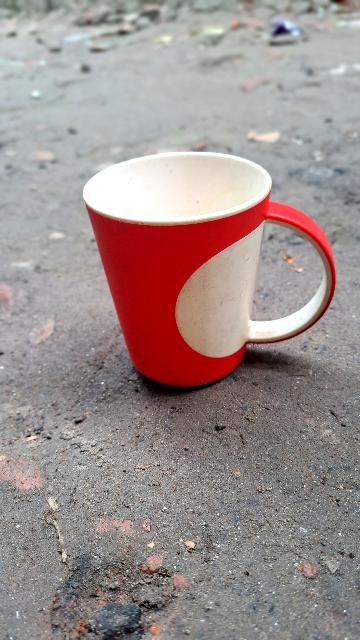hardplastic: (89, 153, 323, 398)
